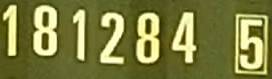eight: (34, 5, 59, 58), (139, 13, 163, 66)
five: (241, 20, 265, 72)
four: (173, 12, 200, 66)
one: (4, 5, 19, 58), (74, 10, 87, 63)
two: (101, 14, 127, 66)
